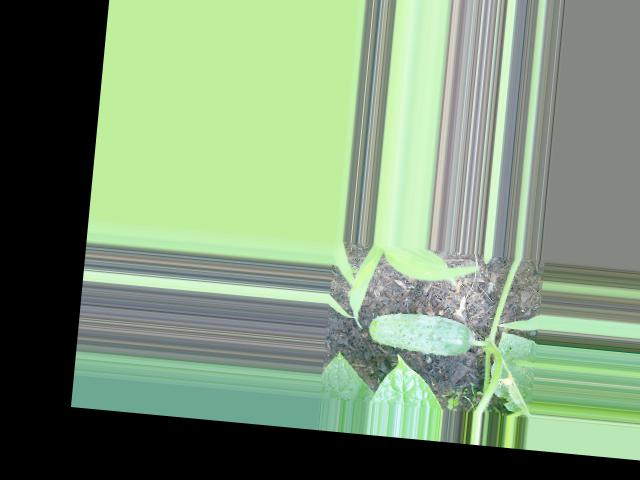cucumber: (365, 308, 475, 357)
